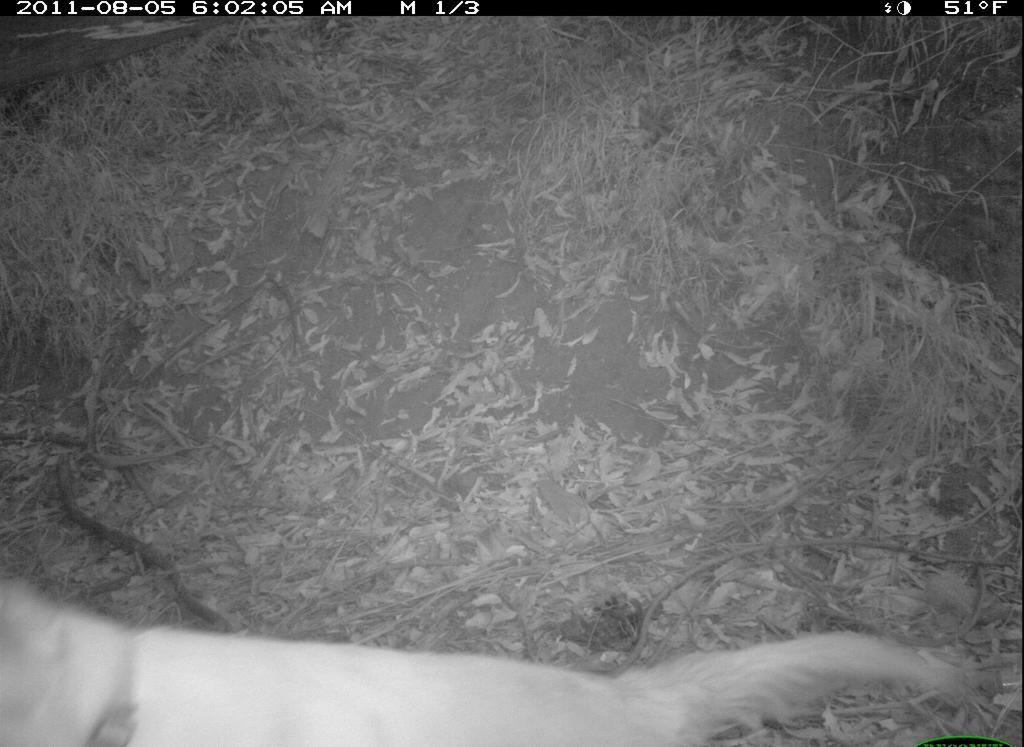dog: (3, 569, 986, 745)
